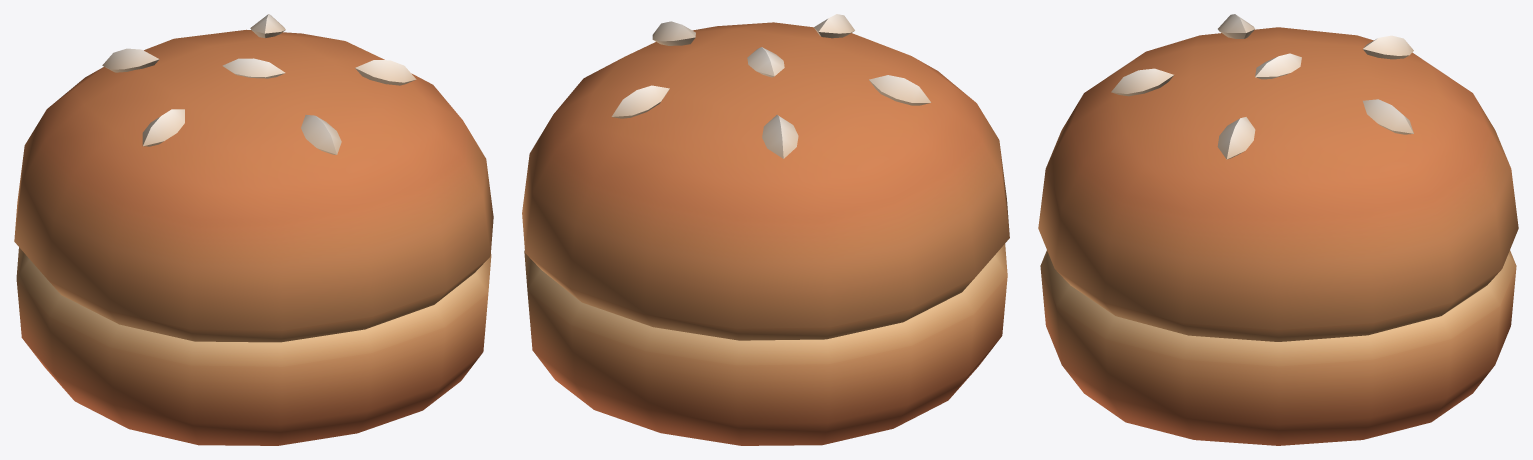
The model's file is Burger buns.glb.
The picture shows the model from 3 angles, left to right: view 1: azimuth 30°, elevation 25°; view 2: azimuth 150°, elevation 25°; view 3: azimuth 270°, elevation 25°; orthographic projection.
Parts seen in each view (by area): view 1: food_ingredient_bun; view 2: food_ingredient_bun; view 3: food_ingredient_bun.
Boxes of the visible parts, box(x1,y1,x2,y2) form: food_ingredient_bun: box(14, 14, 493, 445); food_ingredient_bun: box(522, 14, 1009, 445); food_ingredient_bun: box(1038, 14, 1518, 445).
Size of the model in its own units: 0.7 by 0.5072 by 0.7.
1 material, 1 textured.
